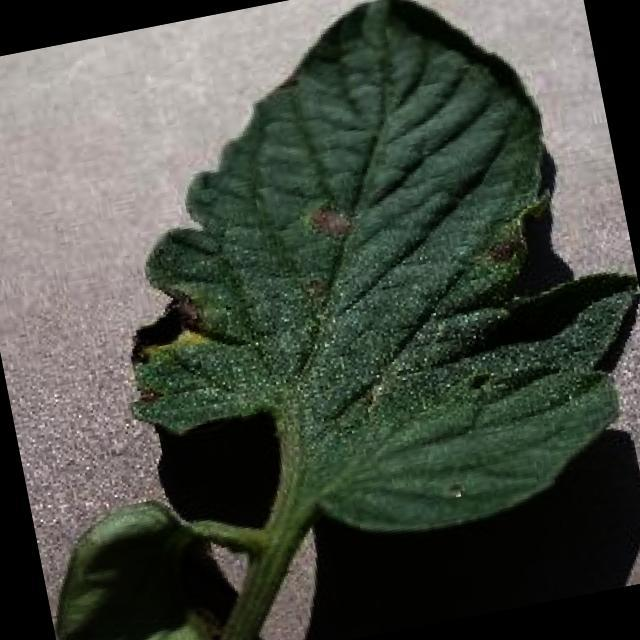Tomato Early blight leaf: (65, 0, 640, 582)
